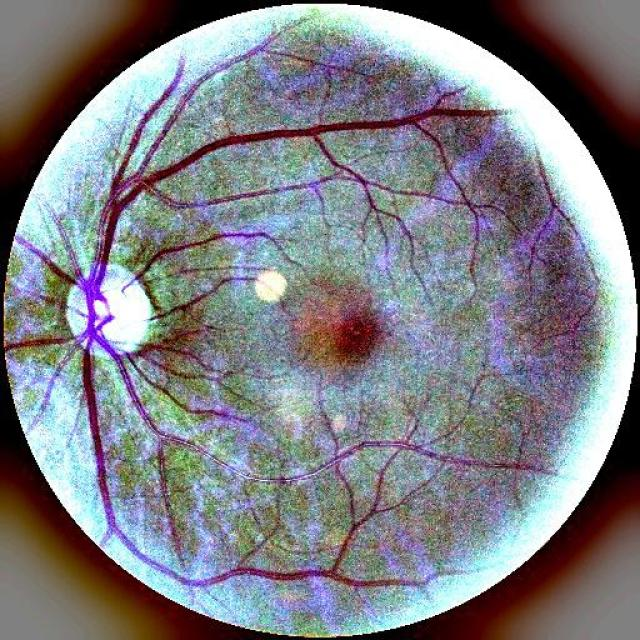Macula: (332, 312, 376, 355)
Nerves: (6, 60, 510, 601)
Optic Disk: (94, 262, 154, 351), (66, 289, 86, 334)
